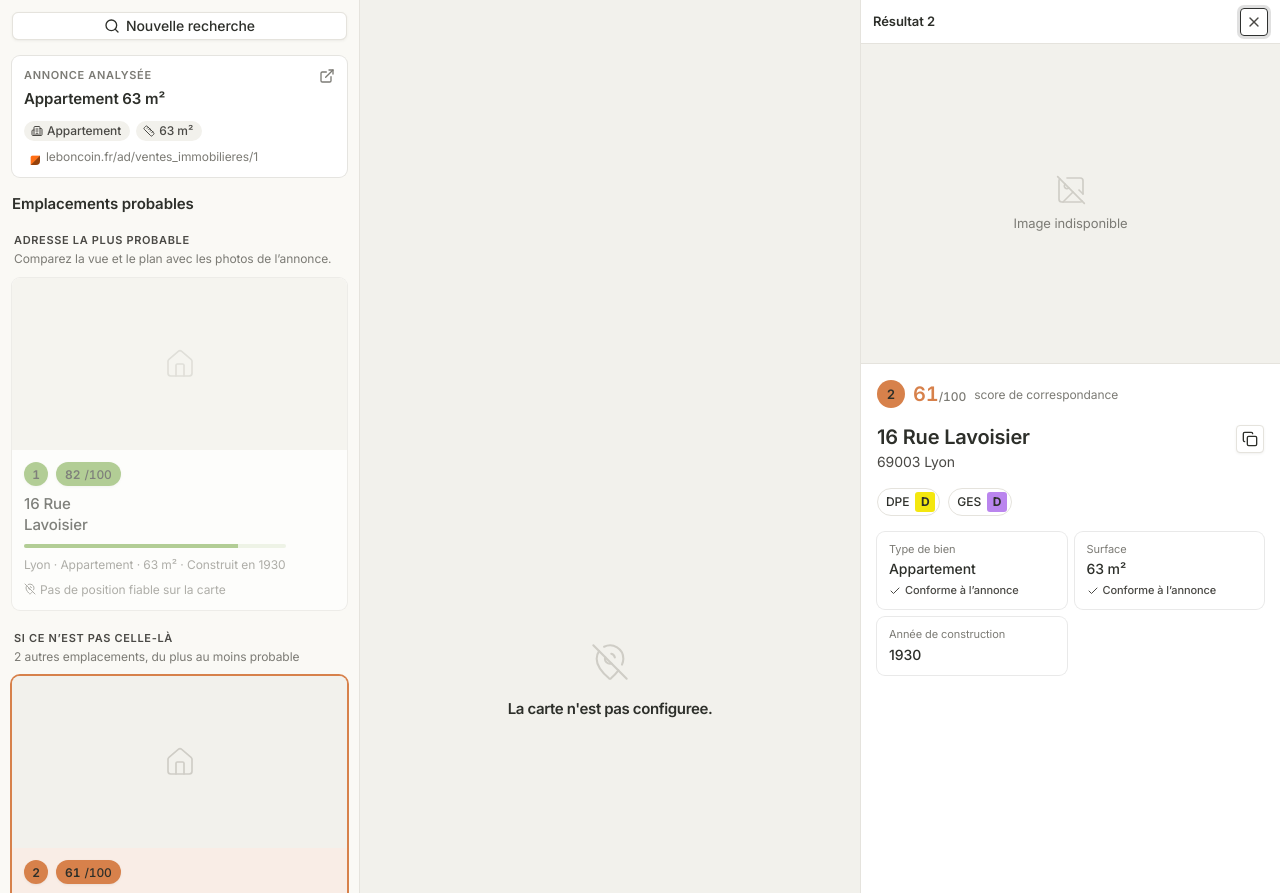
Test case: ResultsWorkspace detail header › returns focus to the shown result's card on close without scrolling the list
(page scrolled)
What coordinates should you click on to do the following:
click the button named "Fermer le détail"
I would click on:
 (1254, 22)
Its box is [1240,8,1268,36].
(page scrolled)
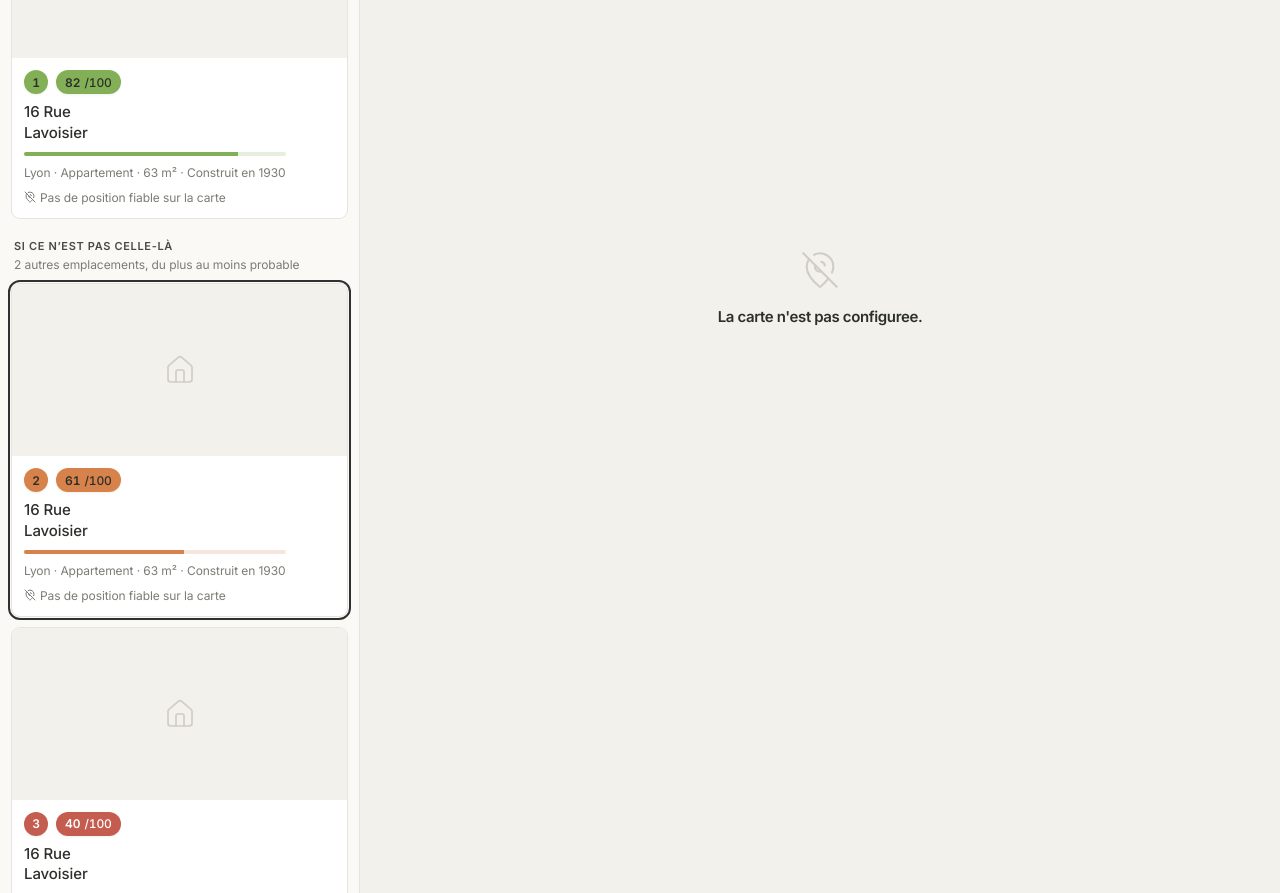
Expected: the button that starts with "16 Rue Lavoisier" does not have attribute aria-current, [12,284,347,616]
